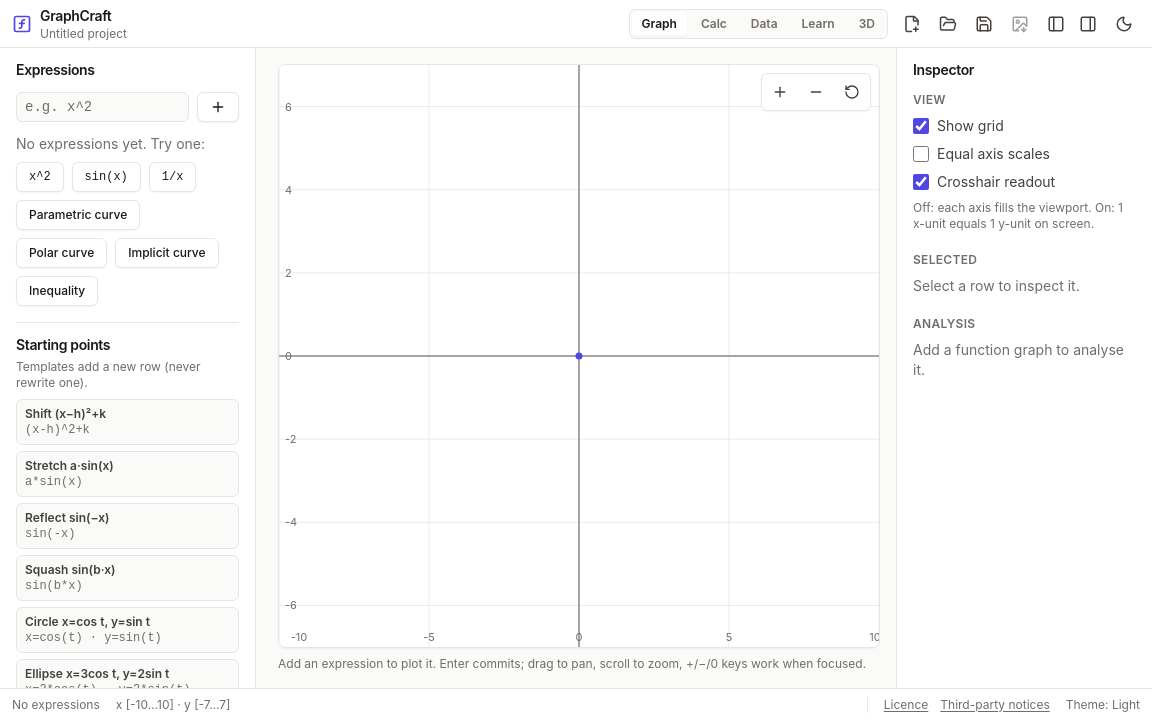
Test: viewport interactions › runs zoom buttons and keyboard through the same operation
Click the button named "Zoom in" at [780, 92], box left=764, top=76, right=796, bottom=108
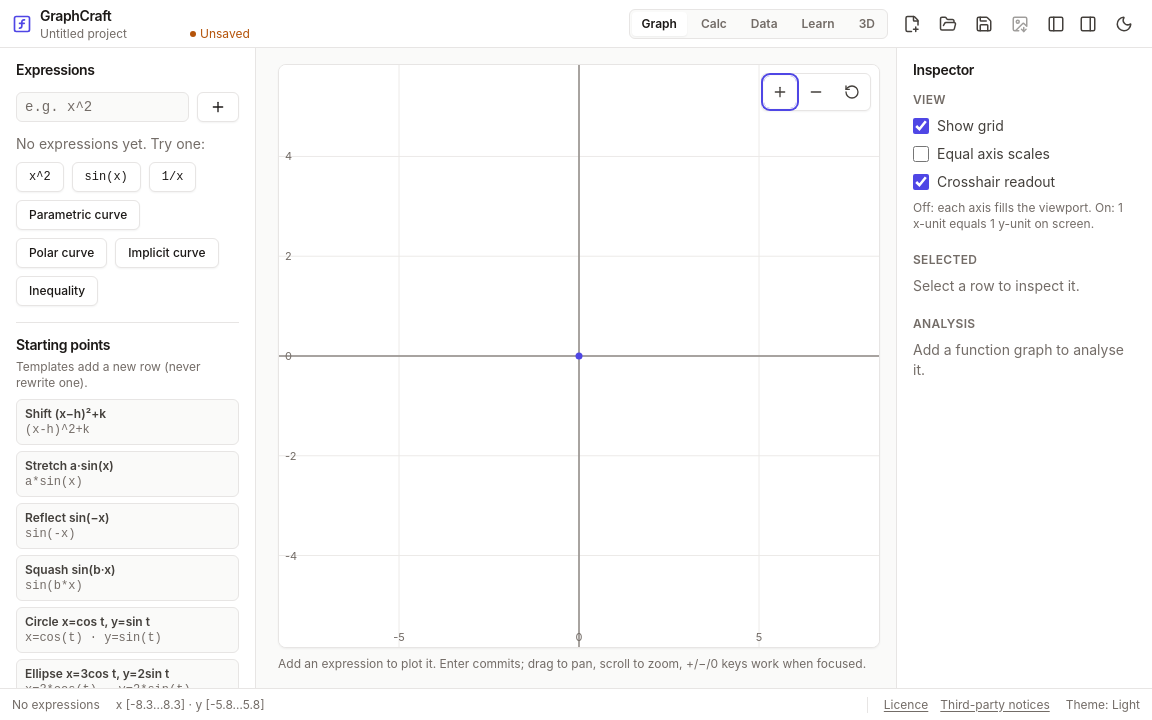
Click the button named "Reset view" at [852, 92], box left=836, top=76, right=868, bottom=108
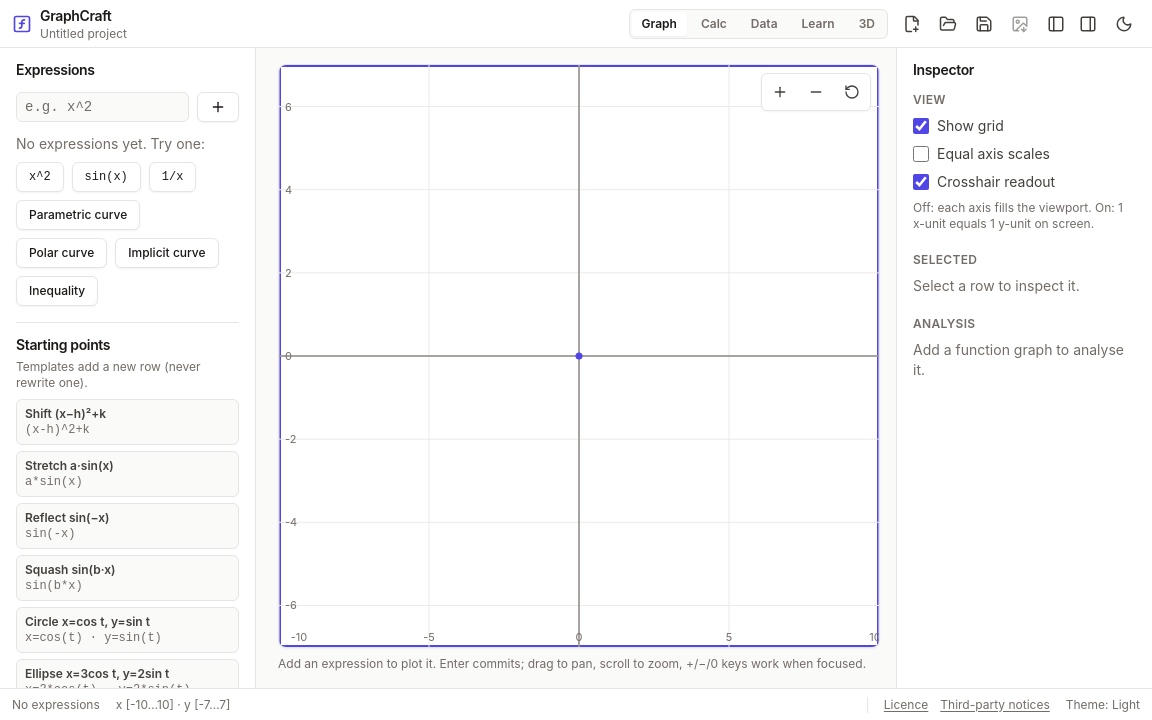
Type keys "+"
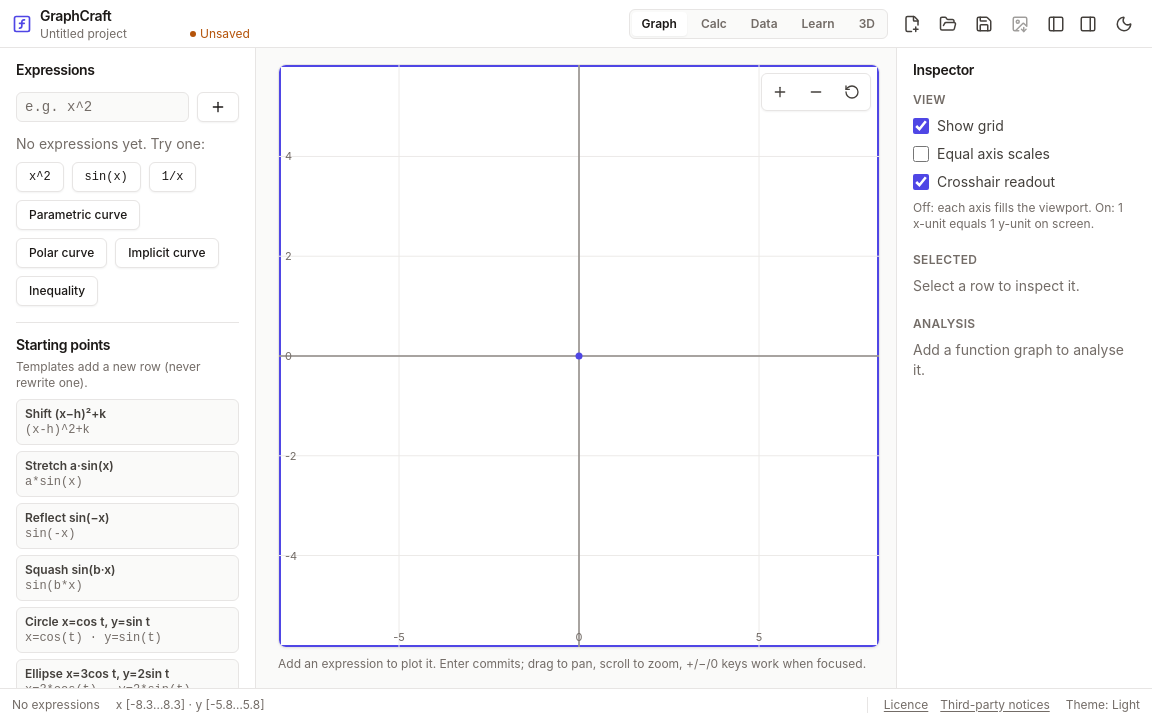
Type keys "0"
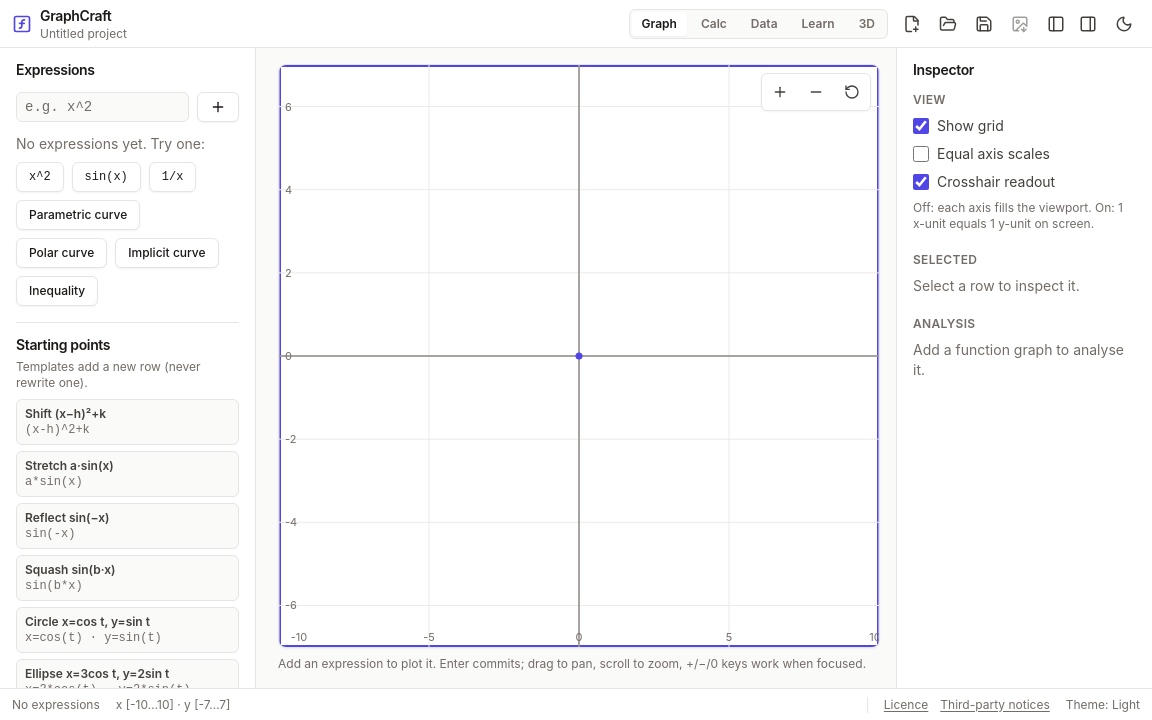
Expected: the footer named "Status" shows "-10", left=116, top=696, right=231, bottom=712
